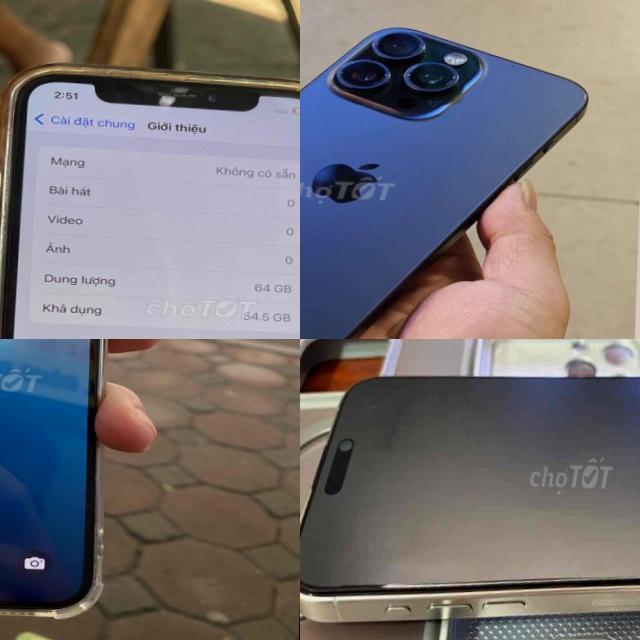gen_12_13: (0, 339, 128, 635)
gen_15: (300, 6, 602, 339), (300, 356, 640, 640)
gen_x_xs: (0, 57, 300, 339)
scratch: (148, 82, 226, 96)
